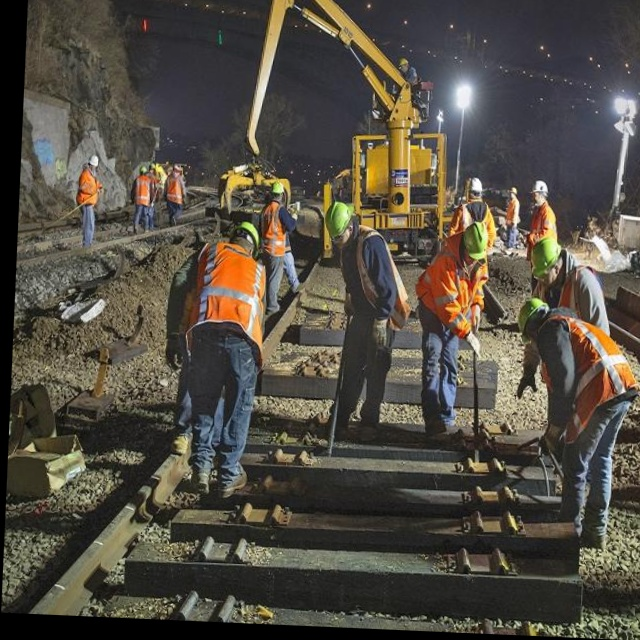Con_Casco: (323, 199, 358, 251), (463, 221, 490, 267)
Con_Chaleco: (535, 312, 640, 451), (190, 243, 270, 364)
